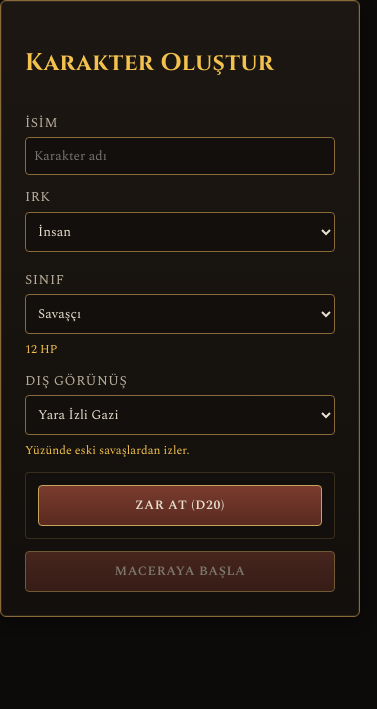
Test: CharacterCreation › ırk değiştirilince önceki zar sonucu sıfırlanır, submit tekrar disabled olur
Step 1. Click the button "Zar At (D20)" → (180, 505), box [38,485,322,526]
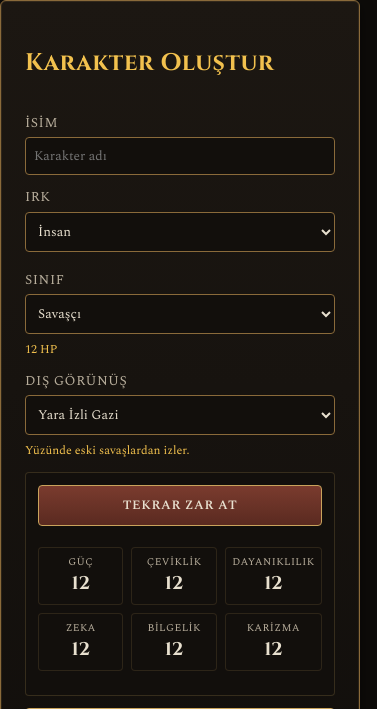
Step 2. Select "Elf" in the dropdown labelled "Irk" → (180, 232), box [25,212,335,252]
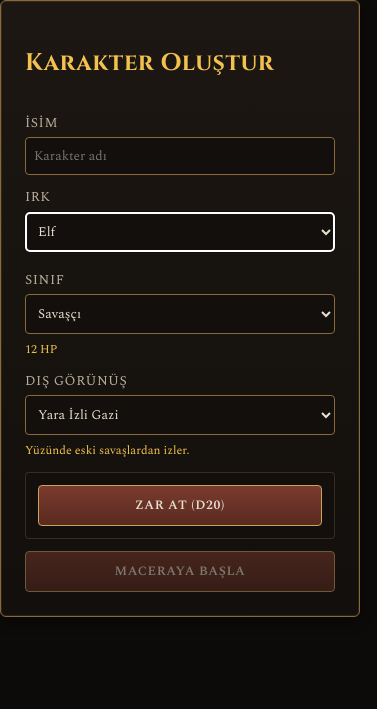
expect the button "Maceraya Başla" is disabled: met, box [25,551,335,592]
